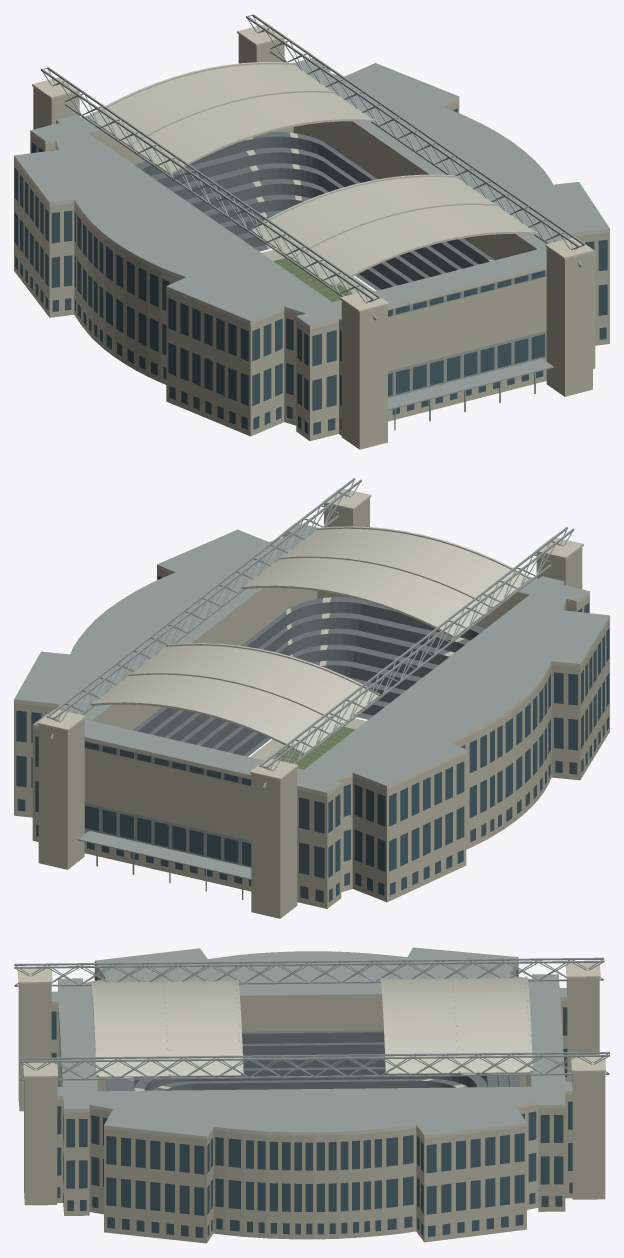
The model's file is nrg-stadium-far.glb.
3 renders of one model, top to bottom at view 1: azimuth 30°, elevation 25°; view 2: azimuth 150°, elevation 25°; view 3: azimuth 270°, elevation 25°, orthographic. The views are drawn at different scales.
Parts seen in each view (by area): view 1: nrg-stadium-0-stone, nrg-stadium-0-steel, nrg-stadium-0-roof, nrg-stadium-0-glass, nrg-stadium-0-seat, nrg-stadium-0-trim, nrg-stadium-0-turf; view 2: nrg-stadium-0-stone, nrg-stadium-0-steel, nrg-stadium-0-roof, nrg-stadium-0-glass, nrg-stadium-0-seat, nrg-stadium-0-trim, nrg-stadium-0-turf; view 3: nrg-stadium-0-stone, nrg-stadium-0-steel, nrg-stadium-0-roof, nrg-stadium-0-glass, nrg-stadium-0-seat, nrg-stadium-0-trim.
Part boxes in pixels (x1,y1,x2,y2): nrg-stadium-0-stone: (14,34,609,449); nrg-stadium-0-steel: (14,14,609,430); nrg-stadium-0-roof: (88,62,538,287); nrg-stadium-0-glass: (14,108,607,434); nrg-stadium-0-seat: (135,132,494,290); nrg-stadium-0-trim: (14,24,609,329); nrg-stadium-0-turf: (273,257,353,302); nrg-stadium-0-stone: (14,498,609,918); nrg-stadium-0-steel: (14,478,609,899); nrg-stadium-0-roof: (90,526,530,754); nrg-stadium-0-glass: (16,576,609,902); nrg-stadium-0-seat: (133,597,484,756); nrg-stadium-0-trim: (14,488,609,796); nrg-stadium-0-turf: (272,726,355,769); nrg-stadium-0-stone: (18,963,605,1243); nrg-stadium-0-steel: (14,947,609,1136); nrg-stadium-0-roof: (91,976,532,1077); nrg-stadium-0-glass: (51,969,572,1237); nrg-stadium-0-seat: (104,1030,519,1091); nrg-stadium-0-trim: (17,958,605,1139).
Bounding box in the file's own units: 235 × 80.78 × 313.
